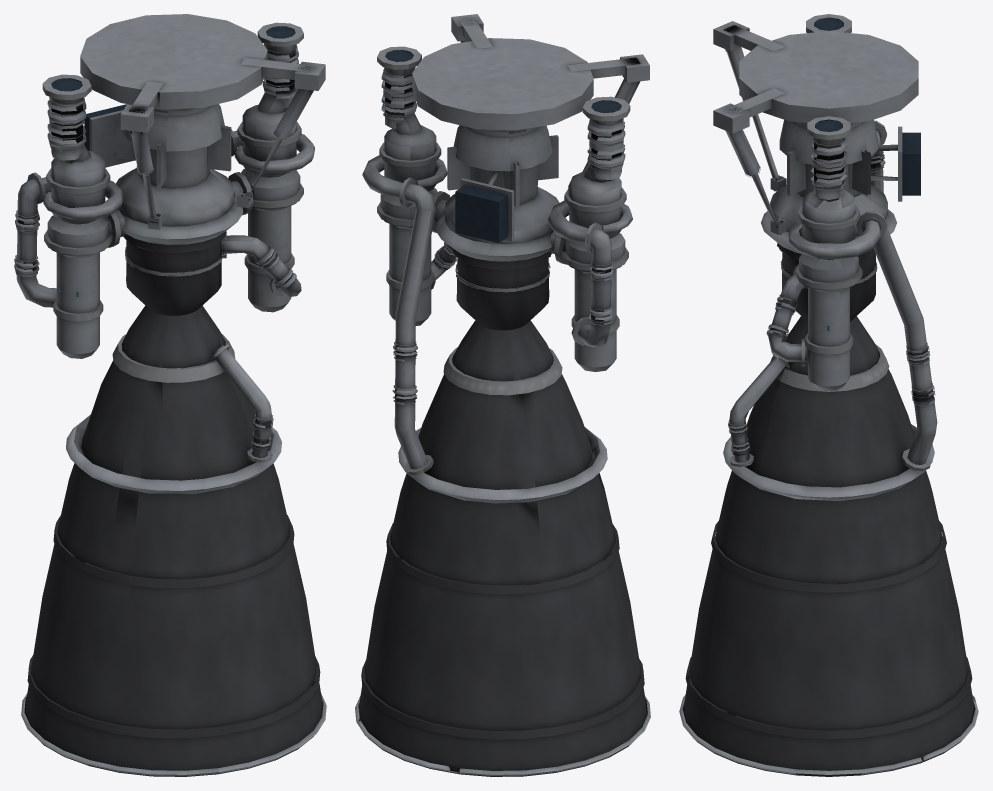
File: eng_methalox_full_flow.glb
3 renders of one model, left to right at view 1: azimuth 30°, elevation 25°; view 2: azimuth 150°, elevation 25°; view 3: azimuth 270°, elevation 25°, orthographic. The views are drawn at different scales.
Visible parts, largest first — view 1: eng_methalox_full_flow_mesh; view 2: eng_methalox_full_flow_mesh; view 3: eng_methalox_full_flow_mesh.
Part boxes in pixels (x1,y1,x2,y2): eng_methalox_full_flow_mesh: [14, 14, 326, 776]; eng_methalox_full_flow_mesh: [355, 14, 650, 776]; eng_methalox_full_flow_mesh: [679, 14, 978, 776].
Bounding box in the file's own units: 1.34 × 3.1 × 1.3.
Materials: 1 (1 with a texture image).
